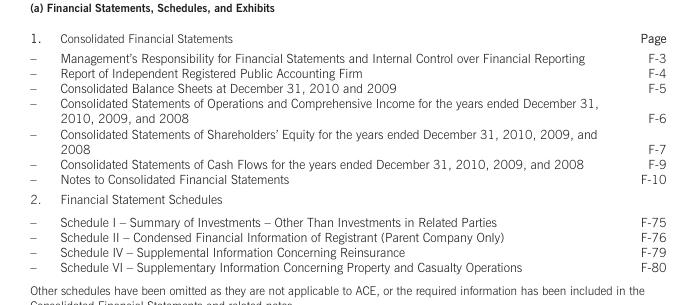table: (29, 29, 665, 274)
table column: (50, 29, 618, 274), (618, 29, 665, 274), (29, 29, 50, 274)
table column header: (29, 29, 665, 47)
table row: (29, 95, 665, 125), (29, 125, 665, 155), (29, 188, 665, 209), (29, 209, 665, 228), (29, 29, 665, 47), (29, 170, 665, 188), (29, 47, 665, 64), (29, 79, 665, 95), (29, 228, 665, 244), (29, 64, 665, 79), (29, 155, 665, 170), (29, 244, 665, 259), (29, 259, 665, 274)
